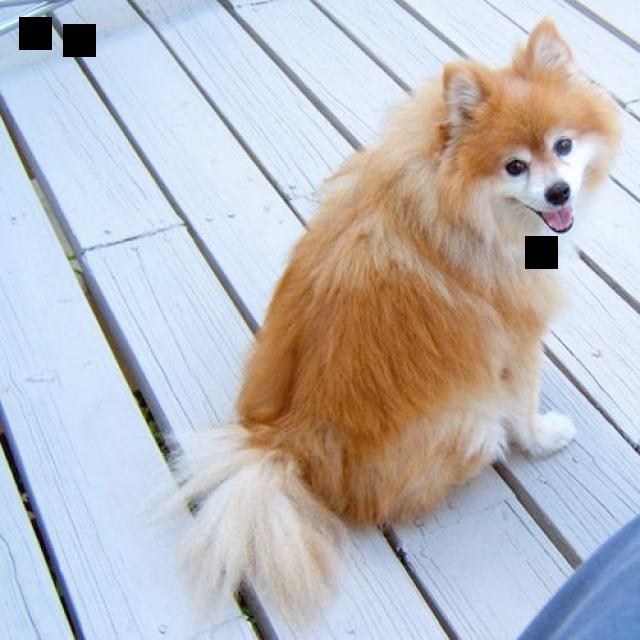adult_dog: (149, 8, 624, 619)
